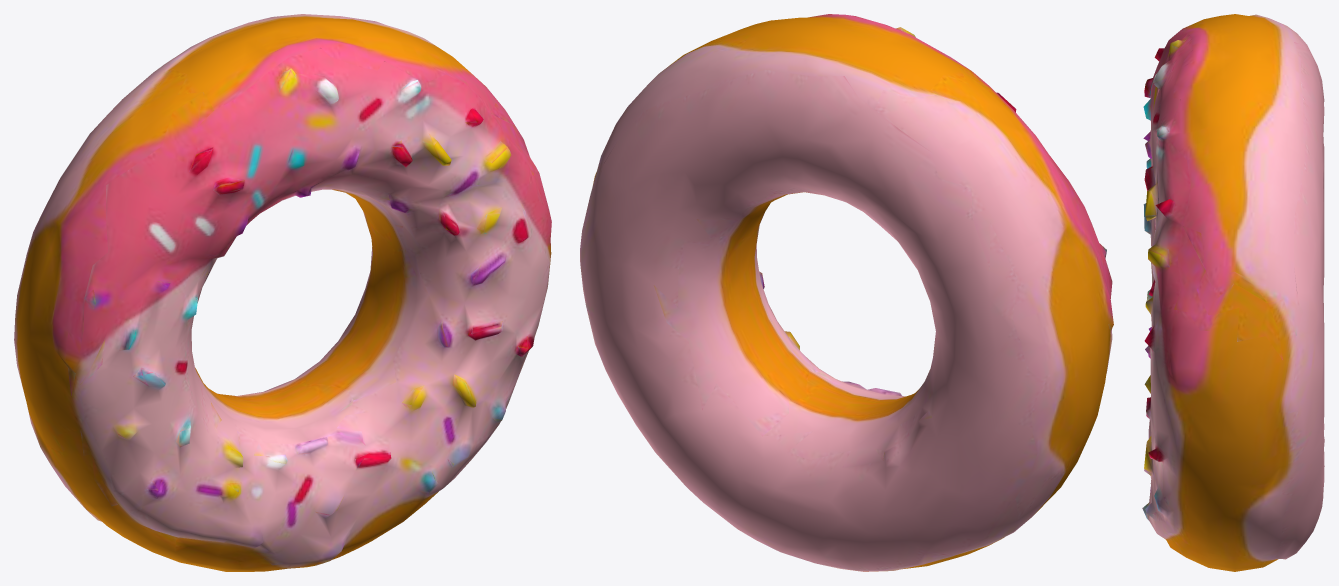
3 renders of one model, left to right at view 1: azimuth 30°, elevation 25°; view 2: azimuth 150°, elevation 25°; view 3: azimuth 270°, elevation 25°, orthographic. The views are drawn at different scales.
Visible parts, largest first — view 1: Mesh1.0; view 2: Mesh1.0; view 3: Mesh1.0.
Part boxes in pixels (<box>): Mesh1.0: <box>14,14,551,571</box>; Mesh1.0: <box>580,14,1113,571</box>; Mesh1.0: <box>1142,14,1324,571</box>.
Bounding box in the file's own units: 1.91 × 1.92 × 0.6228.
Materials: 1 (1 with a texture image).
